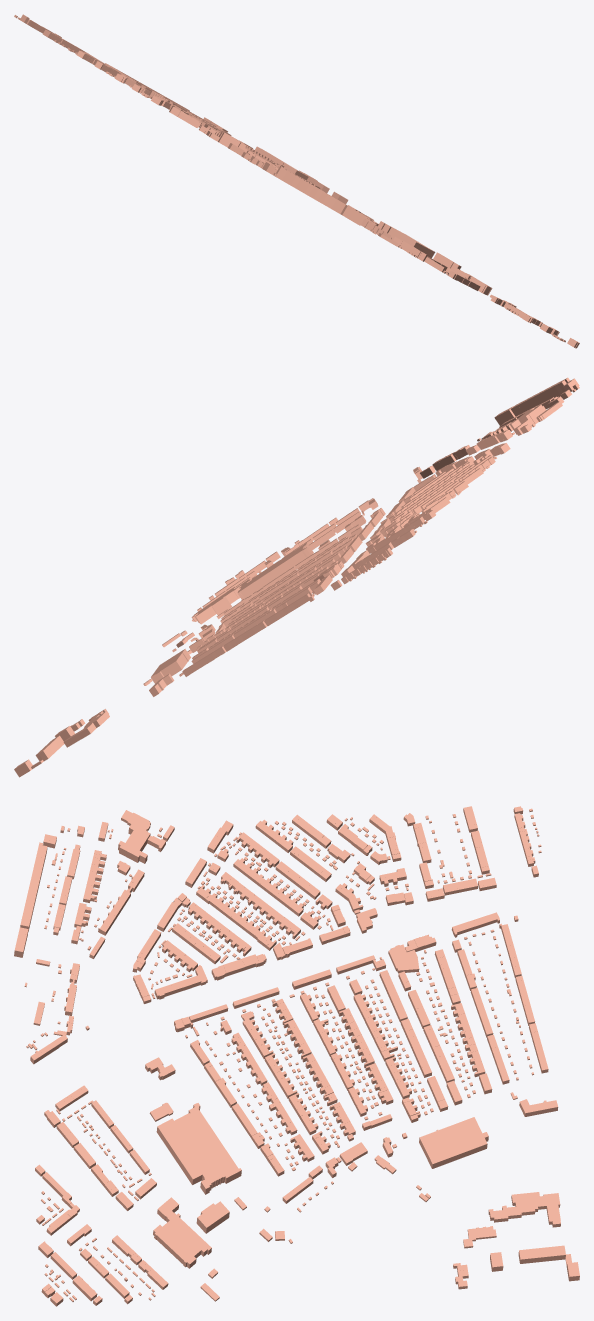
The picture shows the model from 3 angles, top to bottom: view 1: azimuth 30°, elevation 25°; view 2: azimuth 150°, elevation 25°; view 3: azimuth 270°, elevation 25°; orthographic projection. The views are drawn at different scales.
Bounding box in the file's own units: 529 × 390 × 640.
